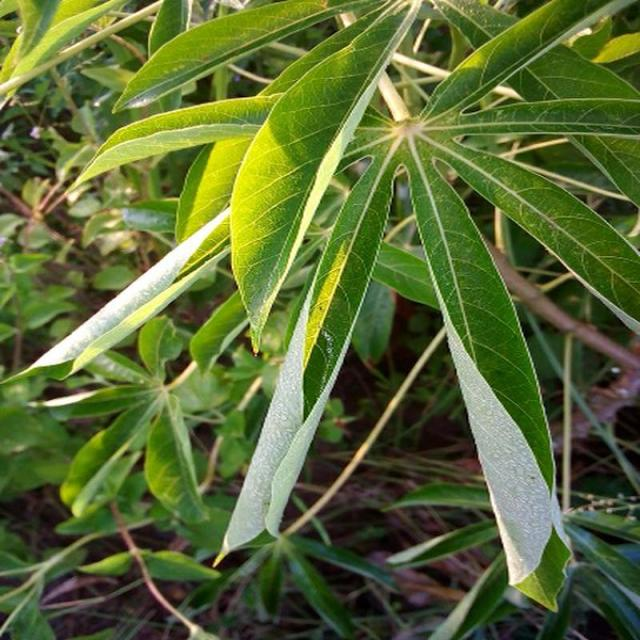cassava leaf: (8, 0, 639, 613), (408, 137, 574, 612), (229, 0, 423, 354)
